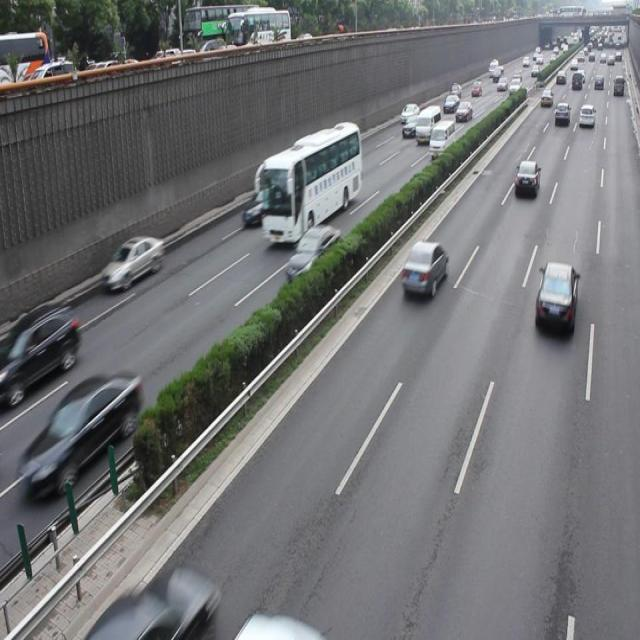car: (28, 369, 141, 500), (0, 302, 80, 392), (101, 235, 164, 292), (285, 223, 342, 282), (533, 260, 576, 336), (400, 237, 448, 298), (240, 184, 284, 226), (513, 159, 539, 200)
van: (256, 122, 361, 241)
